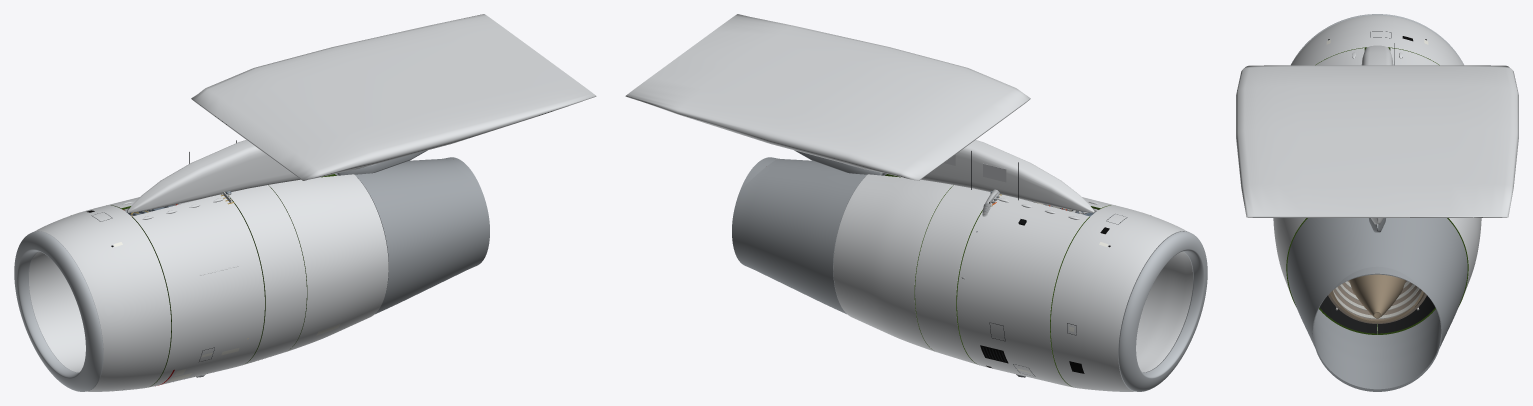
The picture shows the model from 3 angles, left to right: view 1: azimuth 30°, elevation 25°; view 2: azimuth 150°, elevation 25°; view 3: azimuth 270°, elevation 25°; orthographic projection. The views are drawn at different scales.
Parts seen in each view (by area): view 1: pylon_wing__full, inlet_cowl, fancowl_doors_L, cna_nozzle, cna_sleeve_L, cna_torquebox_L, lip_ring, pylon_fairing, pylon_aftfairing__full; view 2: pylon_wing__full, inlet_cowl, fancowl_doors_R, cna_nozzle, cna_sleeve_R, cna_torquebox_R, lip_ring, pylon_fairing, pylon_aftfairing__full; view 3: pylon_wing__full, cna_nozzle, inlet_cowl, cna_sleeve_R, cna_sleeve_L, tec_plug, tec_plug__cut, lptcase_shell__cut, lptcase_shell, pylon_fairing, fancowl_doors_L, fancowl_doors_R (+5 smaller).
Part boxes in pixels (box(x1,y1,x2,y2)): pylon_wing__full: box(191, 14, 596, 180); inlet_cowl: box(29, 205, 171, 391); fancowl_doors_L: box(132, 194, 264, 387); cna_nozzle: box(355, 157, 489, 314); cna_sleeve_L: box(268, 174, 388, 351); cna_torquebox_L: box(228, 185, 306, 364); lip_ring: box(14, 231, 103, 391); pylon_fairing: box(127, 140, 370, 212); pylon_aftfairing__full: box(335, 150, 427, 175); pylon_wing__full: box(625, 14, 1030, 180); inlet_cowl: box(1050, 205, 1192, 391); fancowl_doors_R: box(957, 195, 1089, 387); cna_nozzle: box(732, 157, 866, 314); cna_sleeve_R: box(833, 174, 953, 351); cna_torquebox_R: box(915, 185, 990, 365); lip_ring: box(1118, 231, 1207, 391); pylon_fairing: box(850, 140, 1094, 212); pylon_aftfairing__full: box(794, 150, 886, 175); pylon_wing__full: box(1236, 65, 1518, 217); cna_nozzle: box(1287, 218, 1467, 391); inlet_cowl: box(1291, 15, 1463, 65); cna_sleeve_R: box(1377, 218, 1481, 334); cna_sleeve_L: box(1273, 218, 1377, 334); tec_plug: box(1350, 274, 1404, 318); tec_plug__cut: box(1354, 275, 1404, 318); lptcase_shell__cut: box(1330, 281, 1425, 319); lptcase_shell: box(1329, 280, 1425, 319); pylon_fairing: box(1361, 45, 1393, 224); fancowl_doors_L: box(1316, 48, 1364, 65); fancowl_doors_R: box(1390, 48, 1438, 65).
Bounding box in the file's own units: 6.34 × 2.98 × 2.7.
